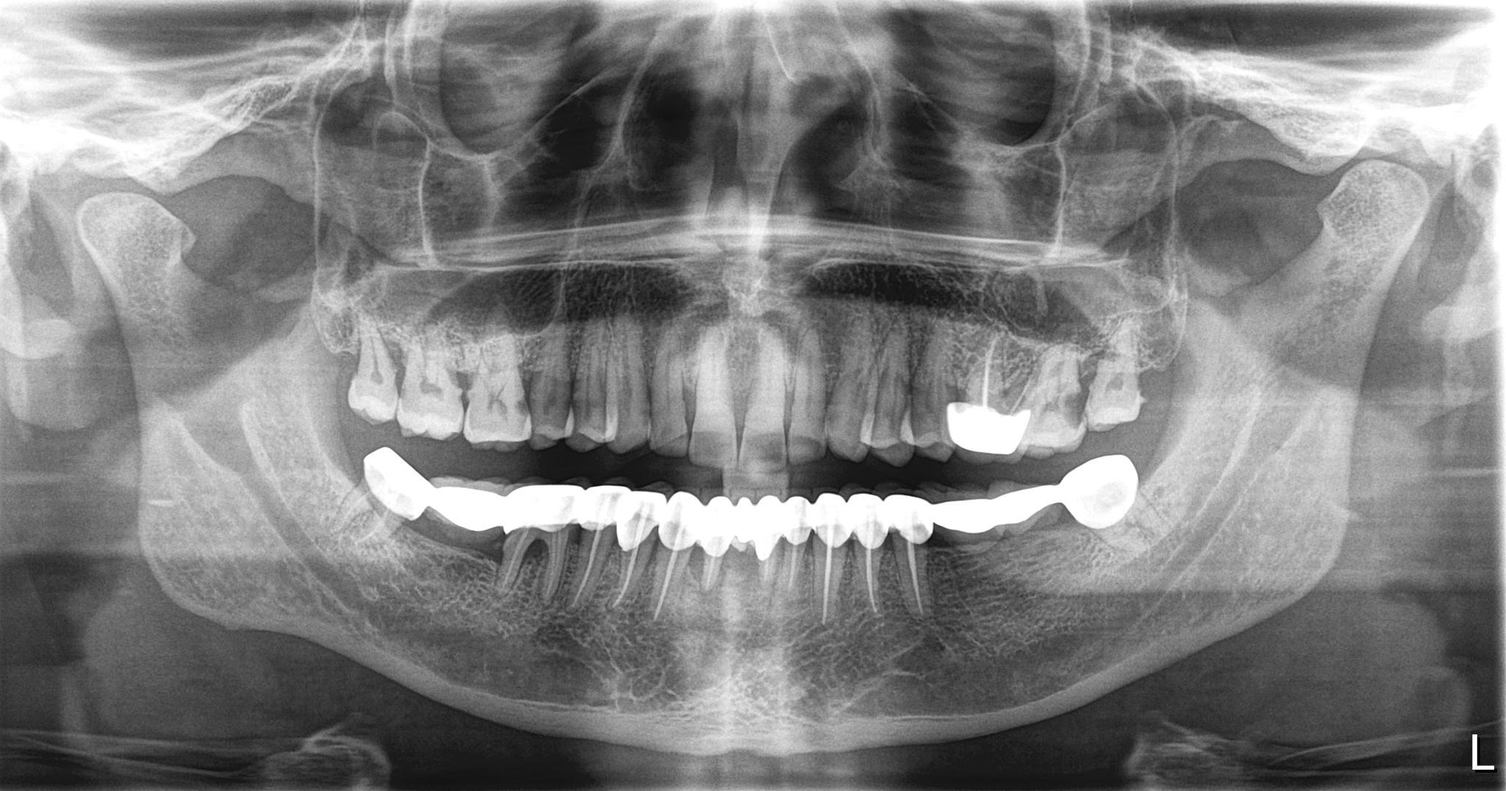Dental Caries: (478, 380, 511, 424)
Endodontically Treated Tooth: (362, 495, 1205, 595), (943, 329, 1018, 474), (1055, 388, 1107, 427)
